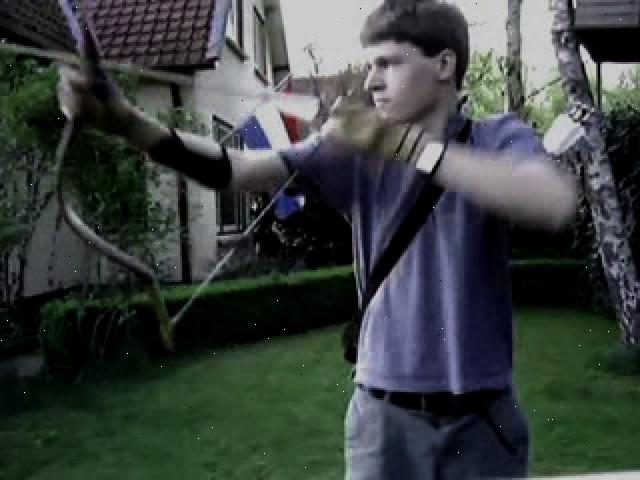P: (58, 3, 576, 476)
